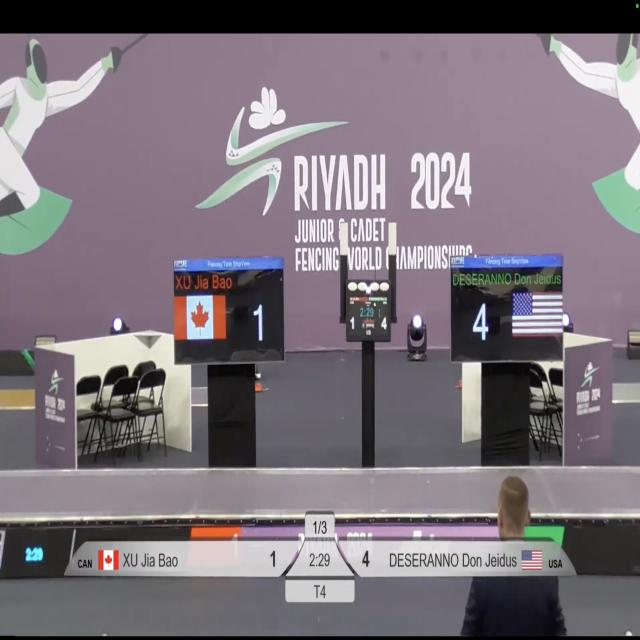overlayLeft: (61, 534, 244, 577)
overlayRight: (384, 539, 578, 577)
scoreLeft: (253, 535, 303, 579)
scoreRight: (333, 536, 378, 579)
